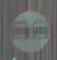No overtake: (4, 5, 53, 49)
